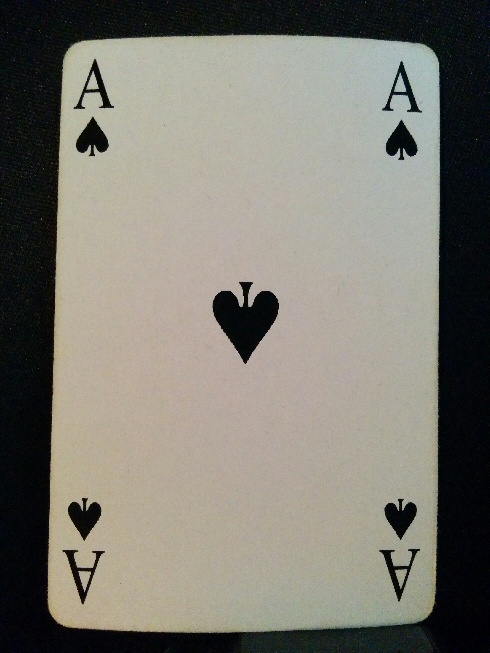Sa: (375, 492, 423, 610), (62, 491, 110, 605), (375, 58, 425, 167), (72, 53, 117, 166)
